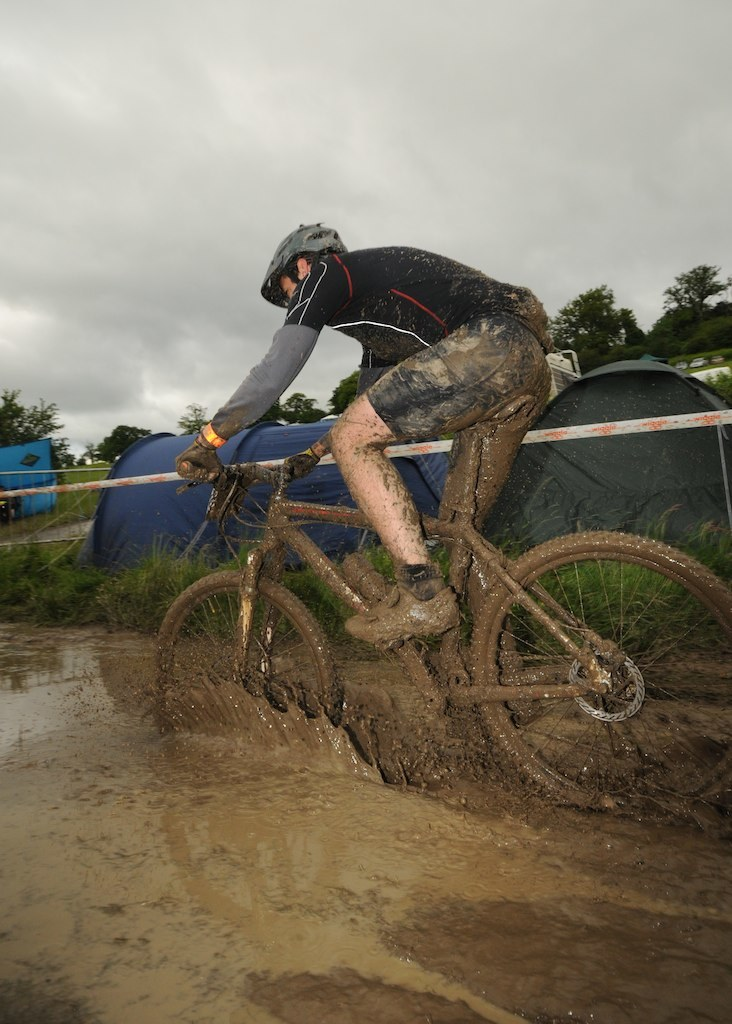Bike_away: (152, 386, 725, 834)
